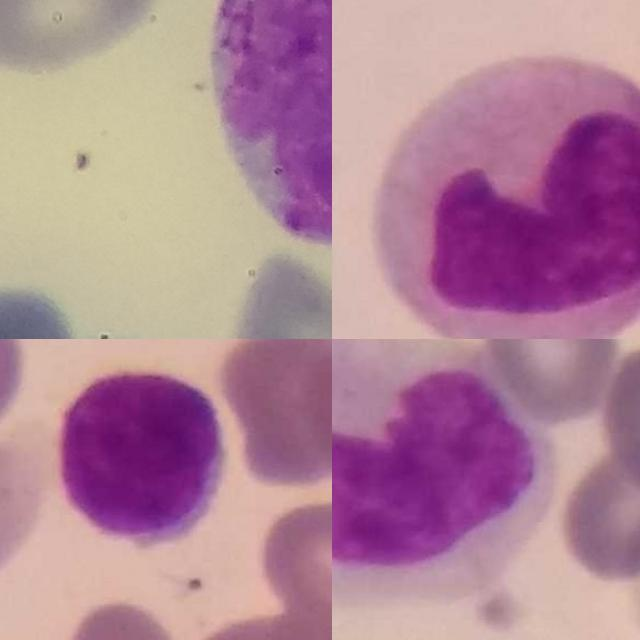Basophil: (214, 0, 332, 251)
Lymphocyte: (58, 366, 226, 549)
Monocyte: (372, 49, 640, 339), (332, 339, 557, 603)
